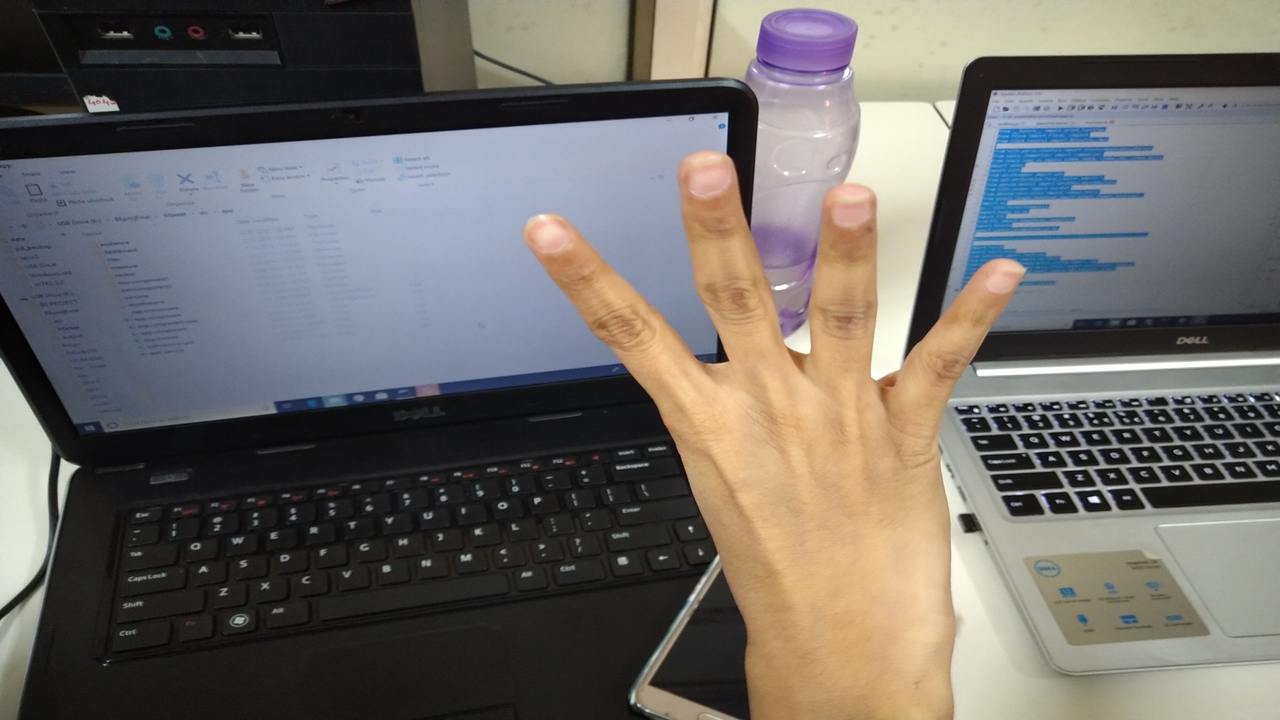fingertip: (670, 144, 742, 208), (966, 250, 1038, 304), (514, 204, 584, 256), (824, 174, 878, 228)
